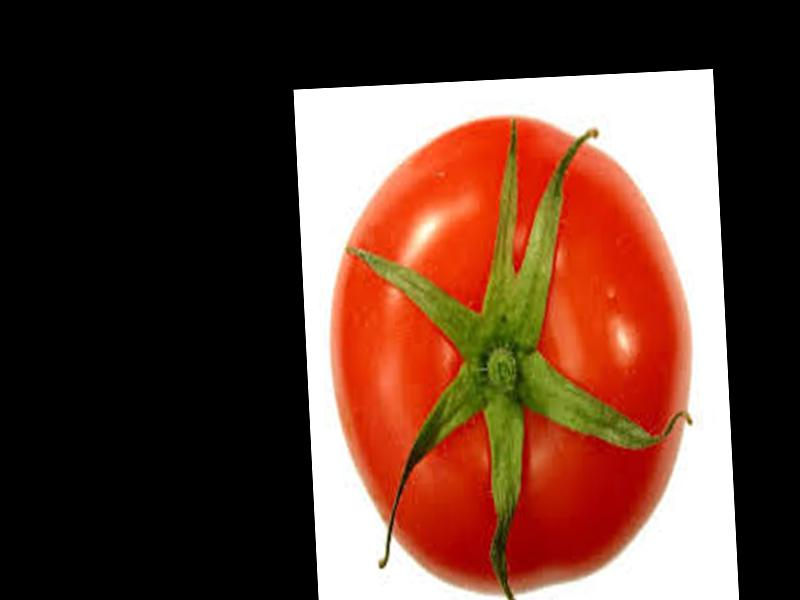Tomato: (319, 105, 701, 600)
